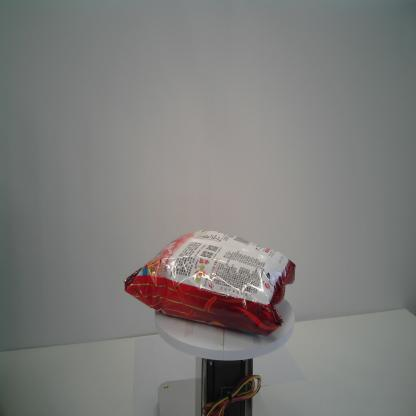Puffed Food: (122, 228, 297, 338)
